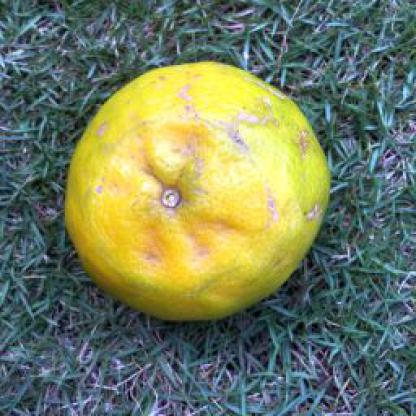orange_rotten: (57, 60, 335, 328)
